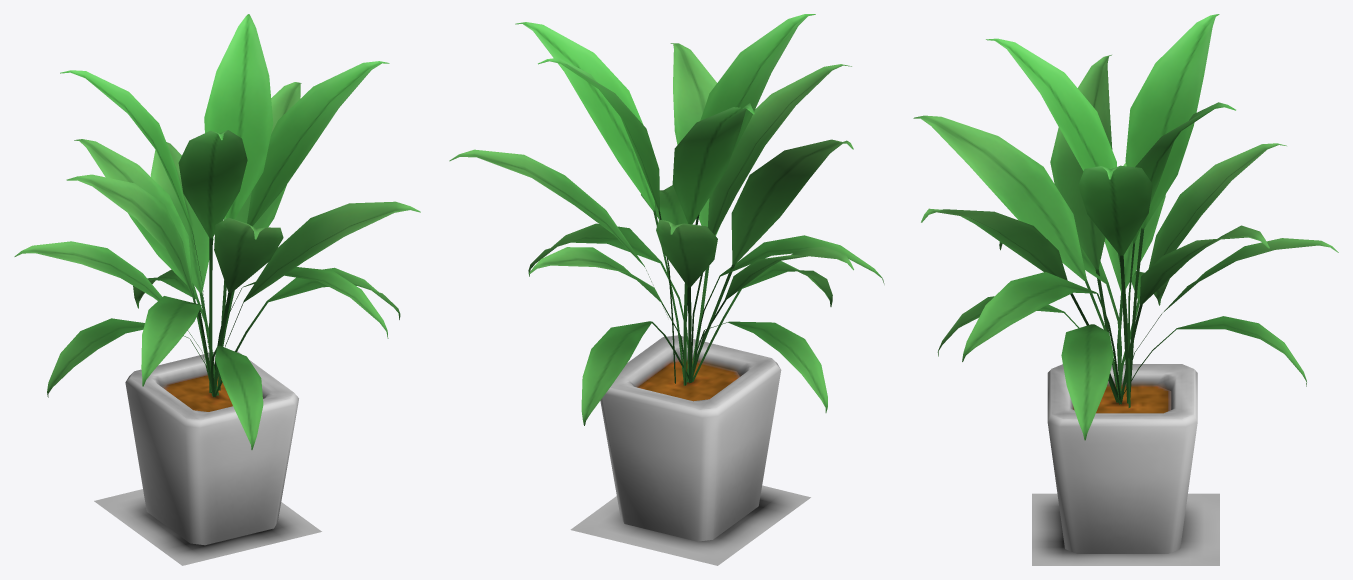
The model's file is Amphitheatre_Item_Bonsai.FBX.
3 renders of one model, left to right at view 1: azimuth 30°, elevation 25°; view 2: azimuth 150°, elevation 25°; view 3: azimuth 270°, elevation 25°, orthographic. The views are drawn at different scales.
Parts seen in each view (by area): view 1: Amphitheatre_Shadow_Bonsai, Amphitheatre_Item_Bonsai; view 2: Amphitheatre_Shadow_Bonsai, Amphitheatre_Item_Bonsai; view 3: Amphitheatre_Shadow_Bonsai, Amphitheatre_Item_Bonsai.
Boxes of the visible parts, x1,y1,x2,y2 form: Amphitheatre_Shadow_Bonsai: (14, 14, 420, 545); Amphitheatre_Item_Bonsai: (94, 489, 321, 565); Amphitheatre_Shadow_Bonsai: (449, 14, 884, 541); Amphitheatre_Item_Bonsai: (570, 485, 810, 565); Amphitheatre_Shadow_Bonsai: (913, 14, 1338, 553); Amphitheatre_Item_Bonsai: (1032, 493, 1219, 565).
Bounding box in the file's own units: 0.9989 × 1.22 × 0.9988.
Materials: 2 (2 with a texture image).
